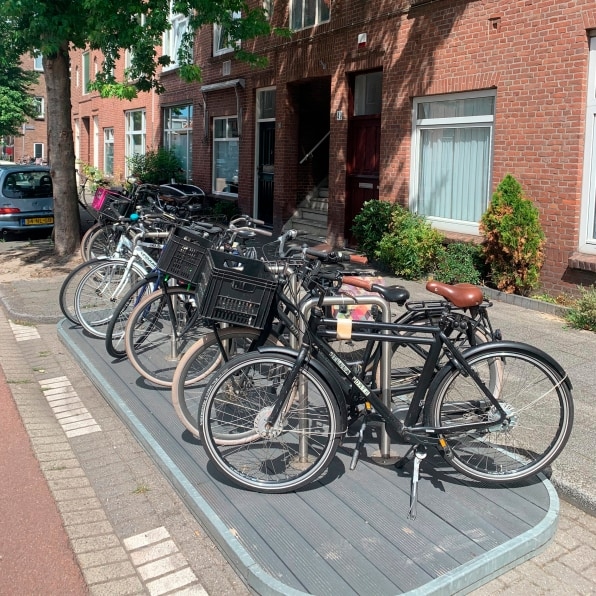bike: (197, 275, 585, 507)
